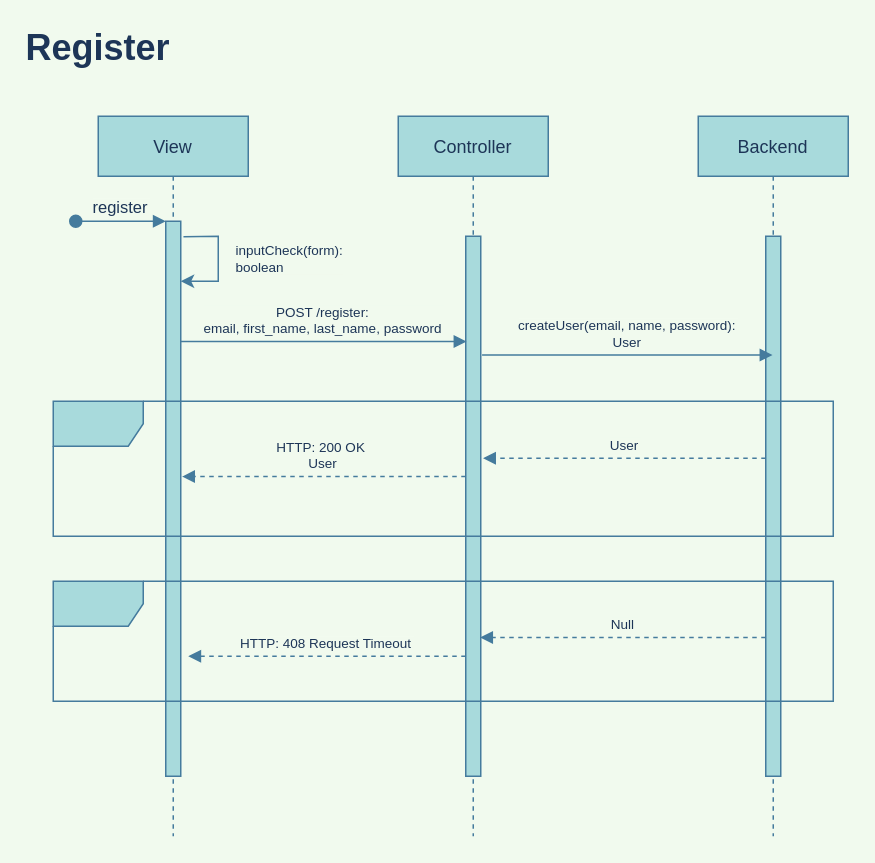
Some shapes in this 875 by 863 pixel diagram are drawn without their labels. Here are the shapes that lost their labels. From the top down, the centre of each, then its label:
the point at 442,468: Register Success
the point at 442,640: Register Failed
